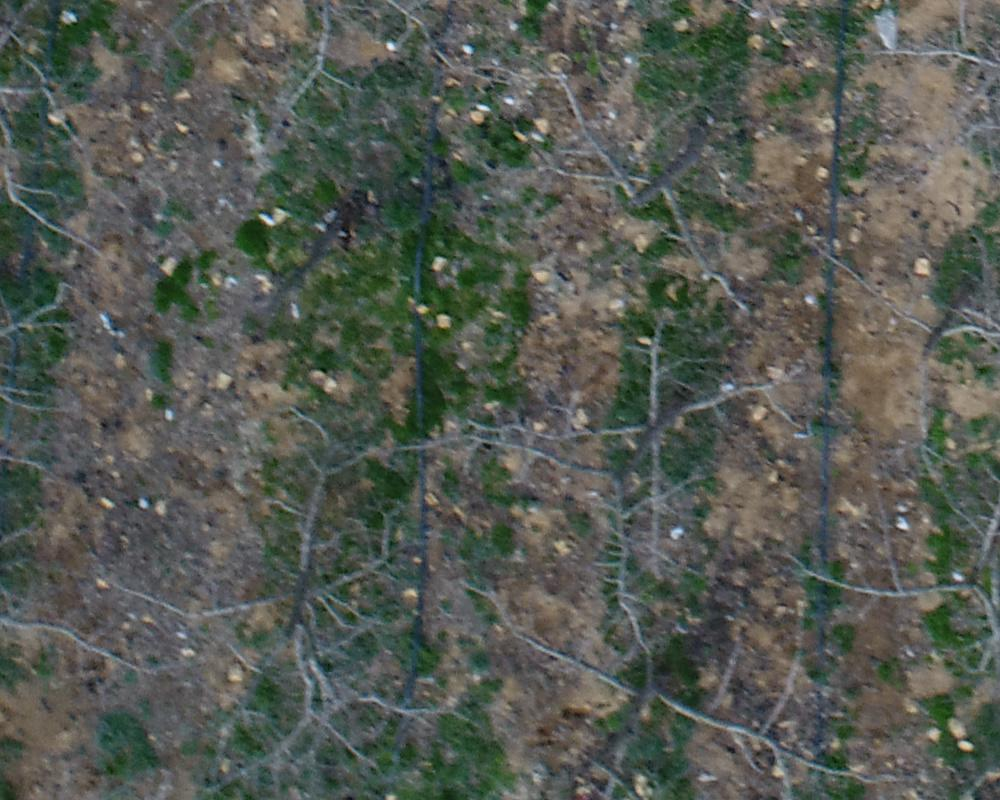apple: (136, 403, 486, 790), (370, 310, 829, 597), (466, 508, 887, 790), (472, 47, 799, 330), (758, 416, 990, 712), (782, 198, 990, 507), (149, 10, 498, 147)
